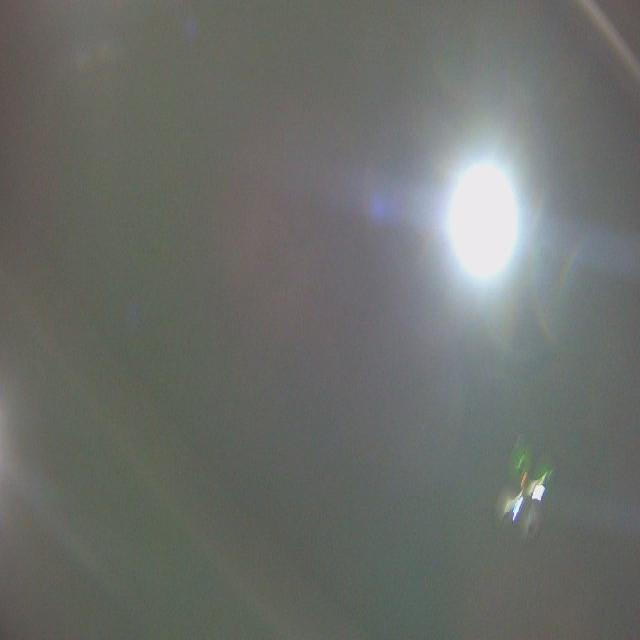drone: (488, 430, 561, 550)
